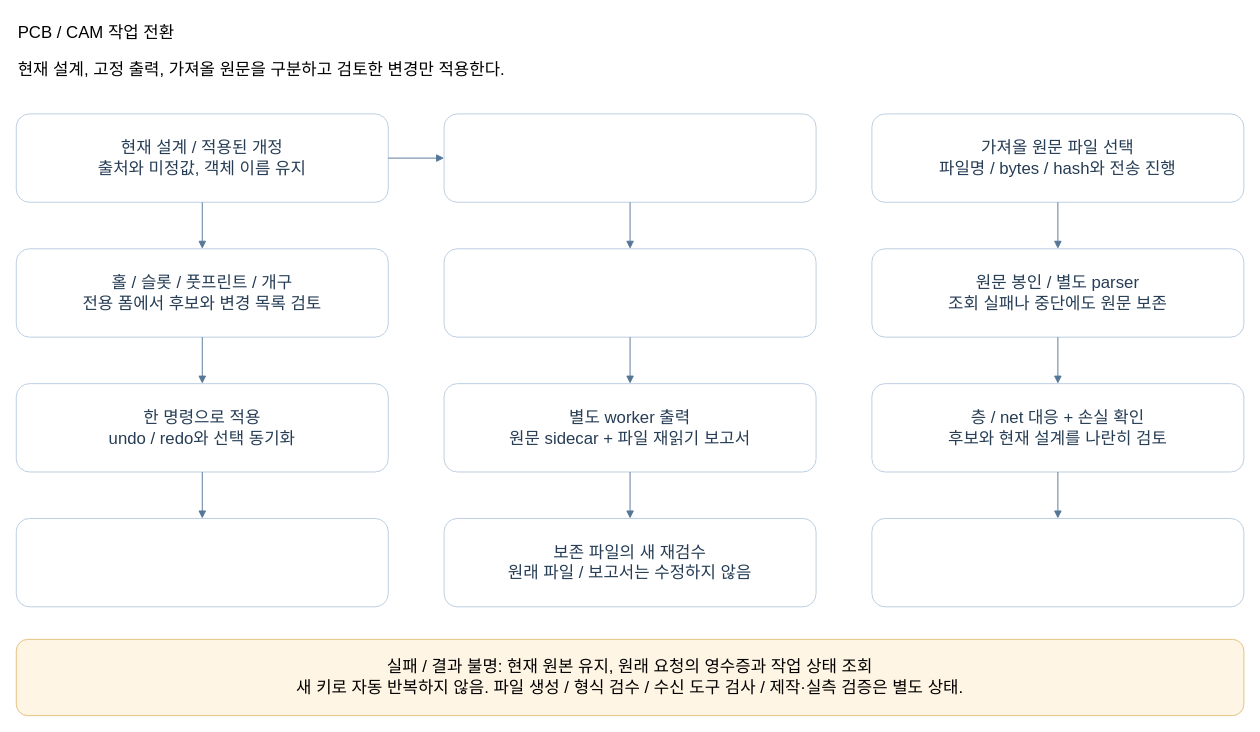
Some shapes in this 1260 by 732 pixel diagram are drawn without their labels. Here are the shapes that lost their labels. From the top down, the centre of each, then its label:
At point 629,157: "출력 입력 고정 현재 또는 보존 snapshot 선택".
At point 629,292: "KiCad / Gerber / 드릴 / Job 원본-대상 대응과 실제 포함 범위 검토".
At point 201,562: "저장 / 종료 / 재열기 원문과 보존 결과를 다시 조회".
At point 1057,562: "검토한 후보 한 번 적용 원문 출처 / 역명령 / 영수증 보존".
